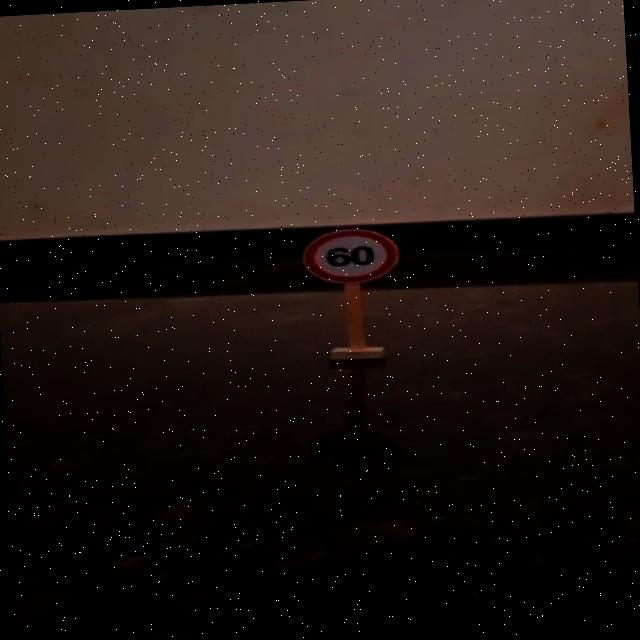Speed60: (300, 224, 404, 288)
